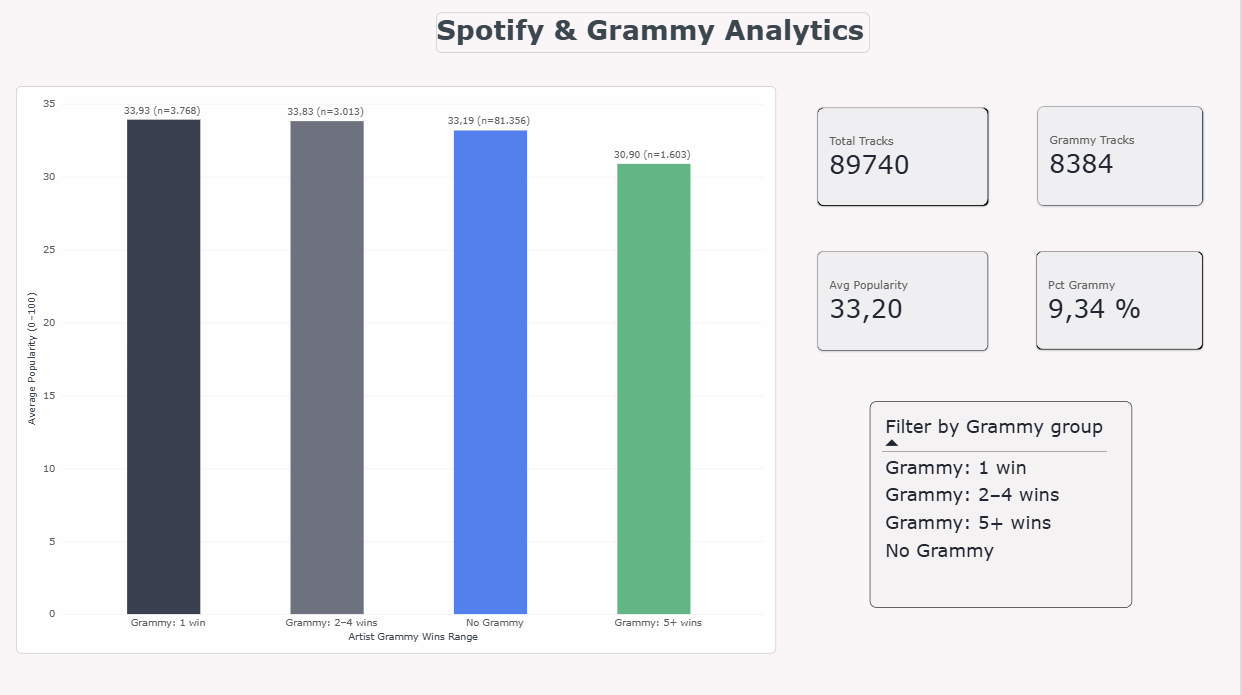

The page's visual inventory and layout, read from the dashboard file:
{"tool":"powerbi","page":{"name":"KPI-01: Popularity by Grammy group","canvas":[1920,1080],"ordinal":0},"visuals":[{"type":"clusteredColumnChart","title":"Average popularity by Grammy recognition group","fields":{"Category":["public dim_grammy_recognition.Recognition Label"],"Y":["public fact_track.Avg Popularity"]},"box":[117.8,149.1,1119,835.6],"z":0},{"type":"textbox","title":"Spotify & Grammy Analytics","box":[736.2,40.5,638.7,58.9],"z":1000},{"type":"cardVisual","fields":{"Data":["public fact_track.Grammy Tracks"]},"box":[1621.5,178.5,244.8,147.2],"z":2000},{"type":"cardVisual","fields":{"Data":["public fact_track.Avg Popularity"]},"box":[1297.6,392,252.1,147.2],"z":3000},{"type":"cardVisual","fields":{"Data":["public fact_track.Total Tracks"]},"box":[1297.6,180.4,252.9,146],"z":4000},{"type":"cardVisual","fields":{"Data":["public fact_track.Pct Grammy"]},"box":[1619.6,392,246.7,146],"z":5000},{"type":"tableEx","fields":{"Values":["public dim_grammy_recognition.Recognition Label"]},"box":[1375.5,612.7,386.5,303.7],"z":6000}]}

Visuals, with their boxes in screenshot pixels (x1, y1, x2, y2), scaled from the page's 1920x1080 canvas onto the 1242x695 screenshot:
"Average popularity by Grammy recognition group" clusteredColumnChart: box=[76, 96, 800, 634]
"Spotify & Grammy Analytics" textbox: box=[476, 26, 889, 64]
cardVisual - public fact_track.Grammy Tracks: box=[1049, 115, 1207, 210]
cardVisual - public fact_track.Avg Popularity: box=[839, 252, 1002, 347]
cardVisual - public fact_track.Total Tracks: box=[839, 116, 1003, 210]
cardVisual - public fact_track.Pct Grammy: box=[1048, 252, 1207, 346]
tableEx - public dim_grammy_recognition.Recognition Label: box=[890, 394, 1140, 590]
